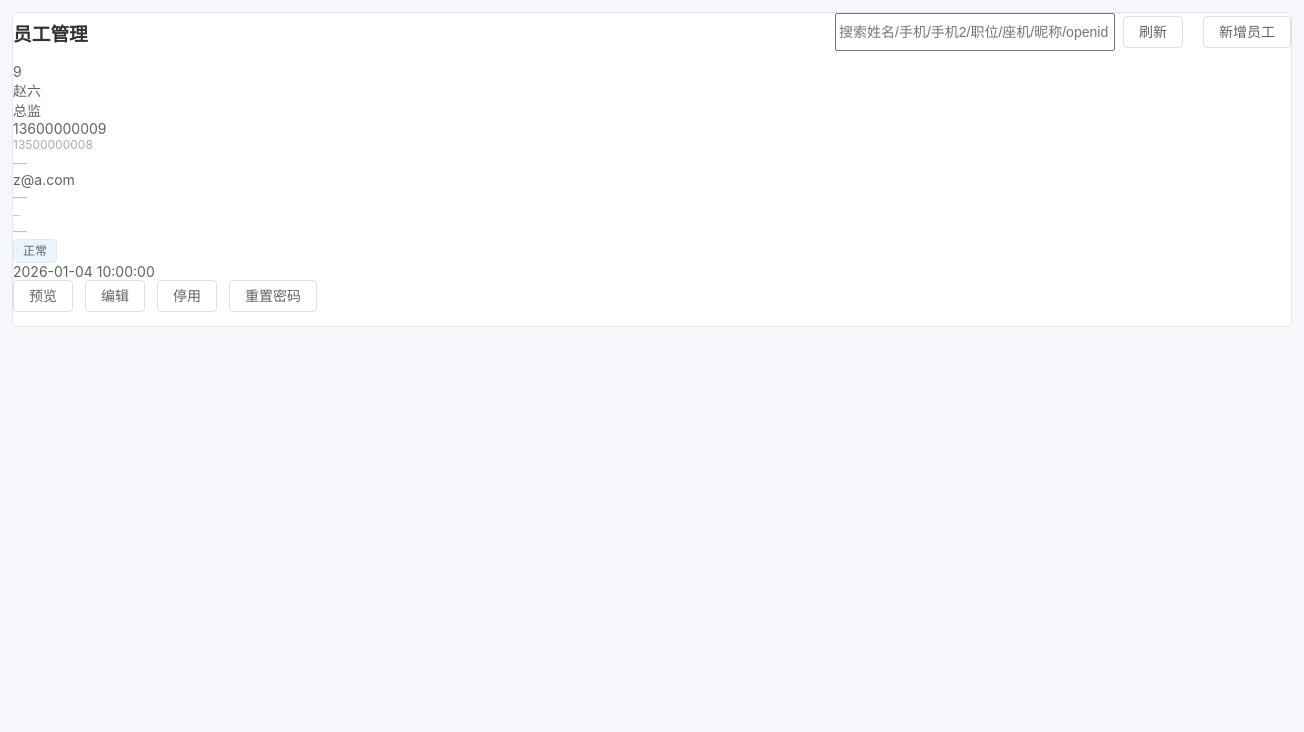
it: Employees › 编辑员工：已有备用号时自动展开输入框
Click the button "编辑" at {"x": 115, "y": 296}, box [85,280,145,312]
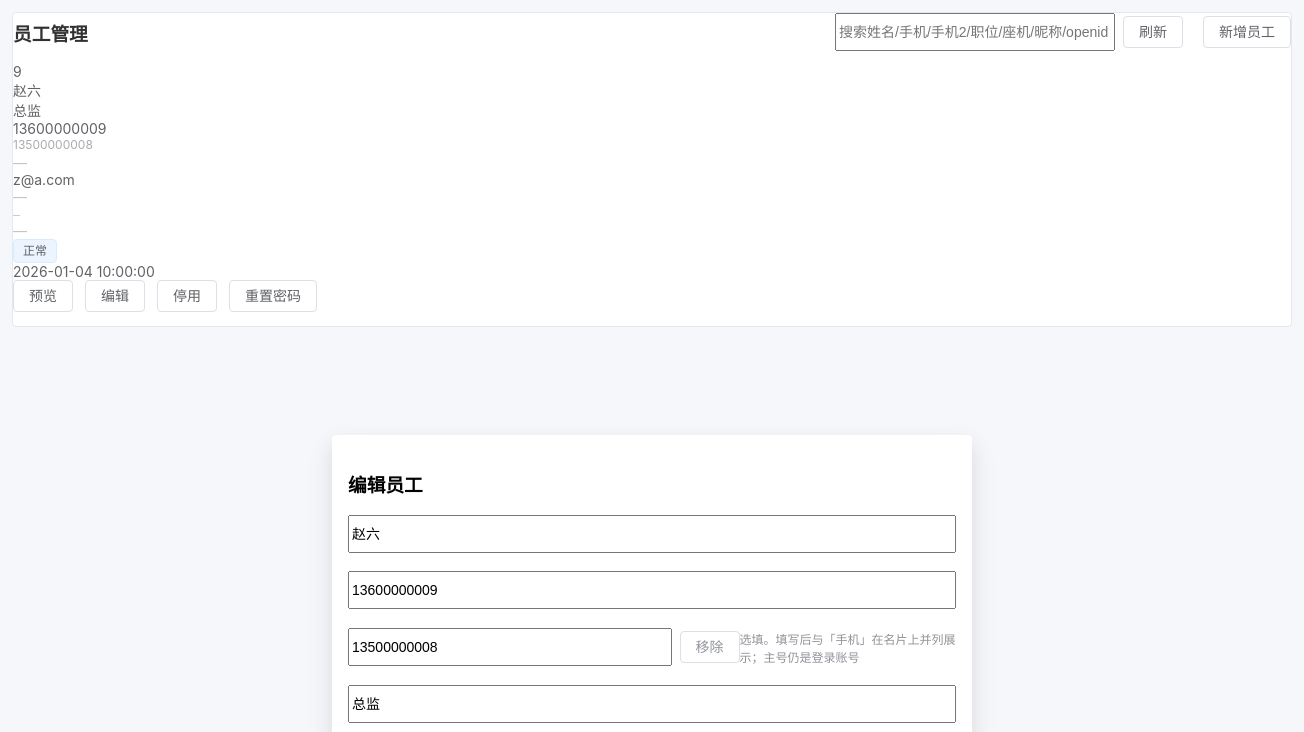
Now the 3rd field holds "13600000009", box [348,571,956,609]
Now the field in the row of "选填。填写后与「手机」在名片上并列展示；主号仍是登录账号" holds "13500000008", box [348,628,672,666]
